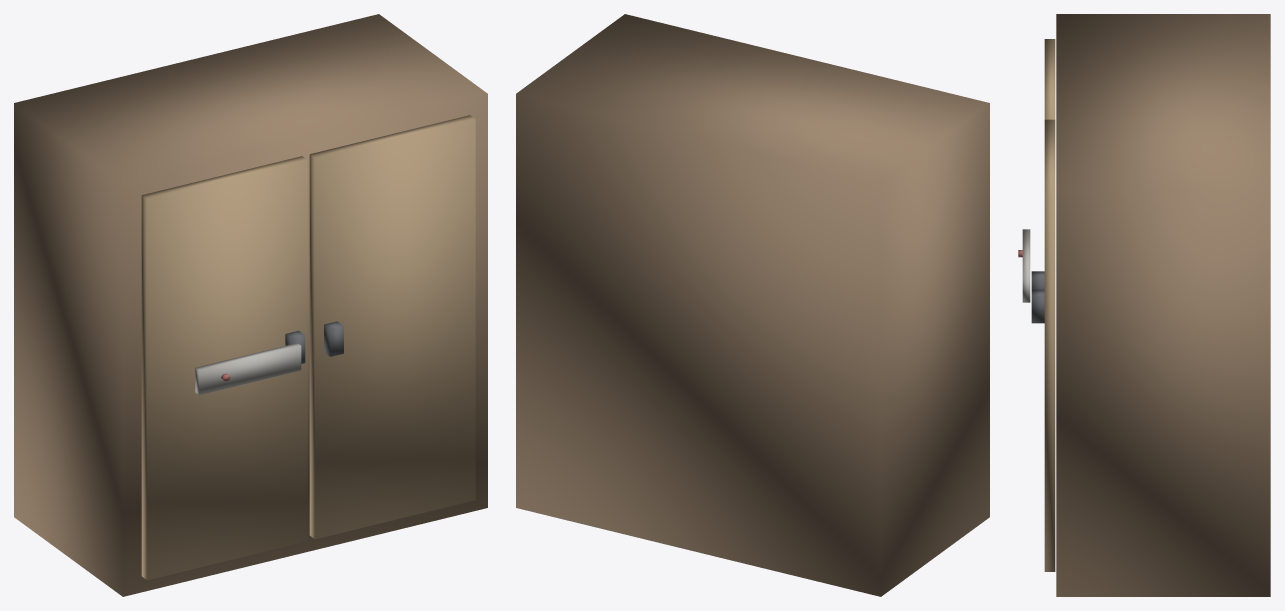
Rendered from case_file_cabinet__squat.glb.
The picture shows the model from 3 angles, left to right: view 1: azimuth 30°, elevation 25°; view 2: azimuth 150°, elevation 25°; view 3: azimuth 270°, elevation 25°; orthographic projection.
Visible parts, largest first — view 1: world; view 2: world; view 3: world.
Boxes of the visible parts, <box> form: world: <box>14,14,487,596</box>; world: <box>516,14,989,596</box>; world: <box>1018,14,1270,596</box>.
Size of the model in its own units: 1.04 by 1.13 by 0.6356.
